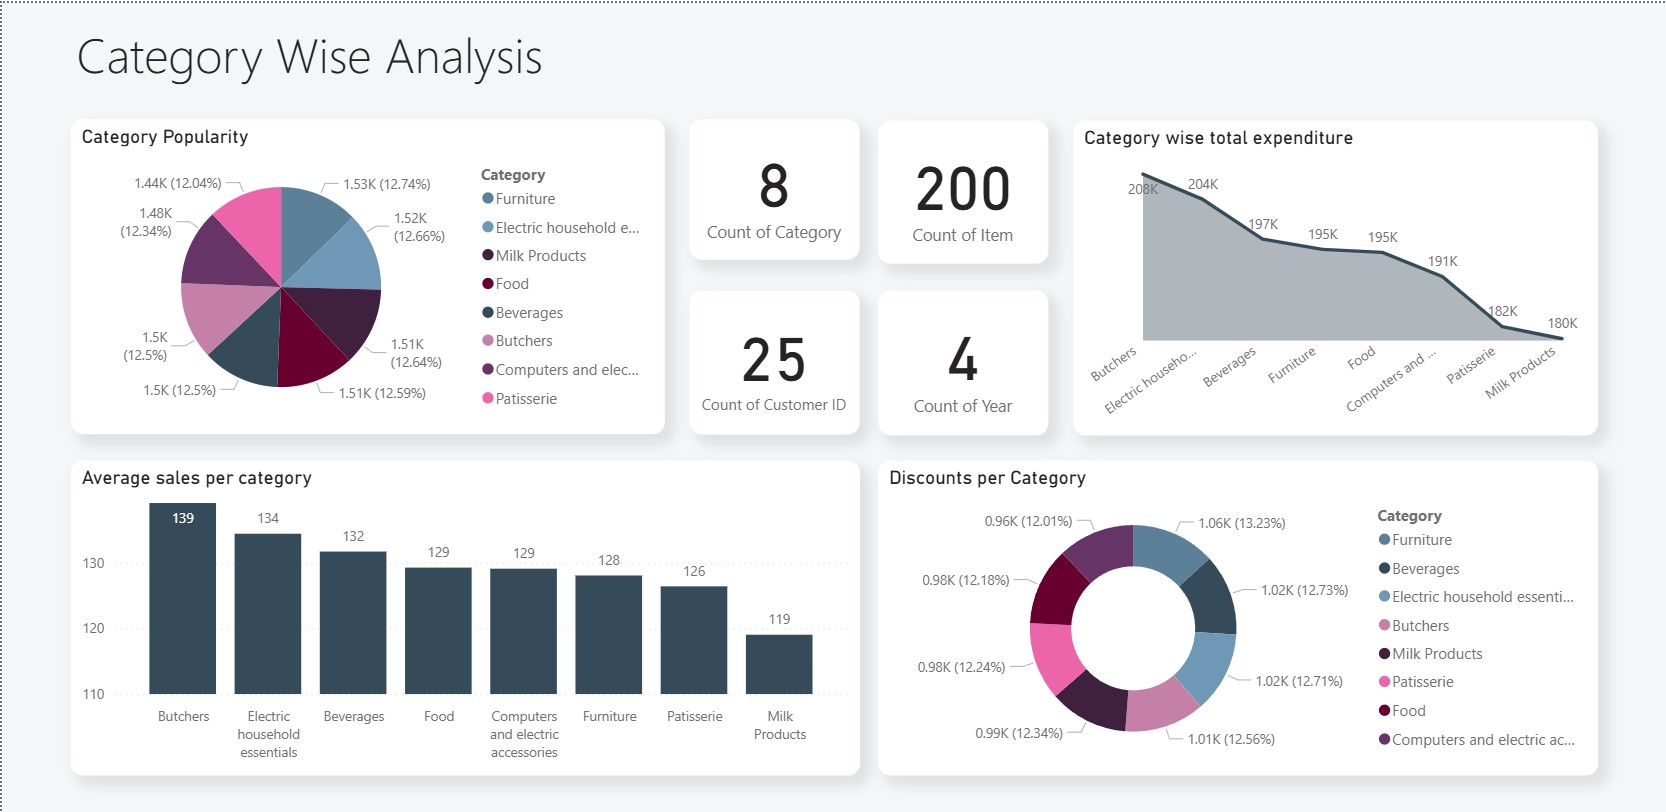

The dashboard page shown, as its layout file describes it:
{"tool":"powerbi","page":{"name":"Category Wise Analysis","canvas":[1480,720],"ordinal":0},"visuals":[{"type":"pieChart","title":"Category Popularity","fields":{"Category":["Retail_data.Category"],"Y":["CountNonNull(Retail_data.Category)"]},"box":[61.1,103.4,527.8,280],"z":0},{"type":"columnChart","title":"Average sales per category","fields":{"Category":["Retail_data.Category"],"Y":["Avg(Retail_data.Total Spent)"]},"box":[61.4,407.1,701.4,280],"z":1000},{"type":"card","fields":{"Values":["Count(Retail_data.Category)"]},"box":[611.1,103.4,151.1,124.4],"z":2000},{"type":"card","fields":{"Values":["Count(Retail_data.Customer ID)"]},"box":[611.1,255.7,151.1,127.8],"z":3000},{"type":"card","fields":{"Values":["Count(Retail_data.Item)"]},"box":[778.9,104,151.2,127.5],"z":4000},{"type":"card","fields":{"Values":["Count(Retail_data.Transaction Date.Variation.Date Hierarchy.Year)"]},"box":[778.9,255.3,151.2,128.8],"z":5000},{"type":"donutChart","title":"Discounts per Category","fields":{"Category":["Retail_data.Category"],"Y":["CountNonNull(Retail_data.Discount Applied)"]},"box":[778.6,407.1,640,280],"z":6000},{"type":"areaChart","title":"Category wise total expenditure","fields":{"Category":["Retail_data.Category"],"Y":["Sum(Retail_data.Total Spent)"]},"box":[952.6,104,466.2,280],"z":7000},{"type":"textbox","box":[61.1,11.1,648.9,67.8],"z":8000}]}

Visuals, with their boxes in screenshot pixels (x1, y1, x2, y2), scaled from the page's 1480x720 canvas onto the 1666x812 screenshot:
"Category Popularity" pieChart: <region>69, 117, 663, 432</region>
"Average sales per category" columnChart: <region>69, 459, 859, 775</region>
card - Count(Retail_data.Category): <region>688, 117, 858, 257</region>
card - Count(Retail_data.Customer ID): <region>688, 288, 858, 433</region>
card - Count(Retail_data.Item): <region>877, 117, 1047, 261</region>
card - Count(Retail_data.Transaction Date.Variation.Date Hierarchy.Year): <region>877, 288, 1047, 433</region>
"Discounts per Category" donutChart: <region>876, 459, 1597, 775</region>
"Category wise total expenditure" areaChart: <region>1072, 117, 1597, 433</region>
textbox: <region>69, 13, 799, 89</region>
